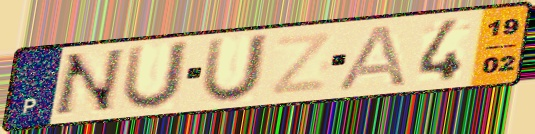4: (415, 17, 467, 84)
A: (334, 22, 410, 92)
N: (48, 46, 128, 120)
U: (197, 31, 275, 106), (118, 38, 195, 113)
Z: (267, 29, 336, 98)
